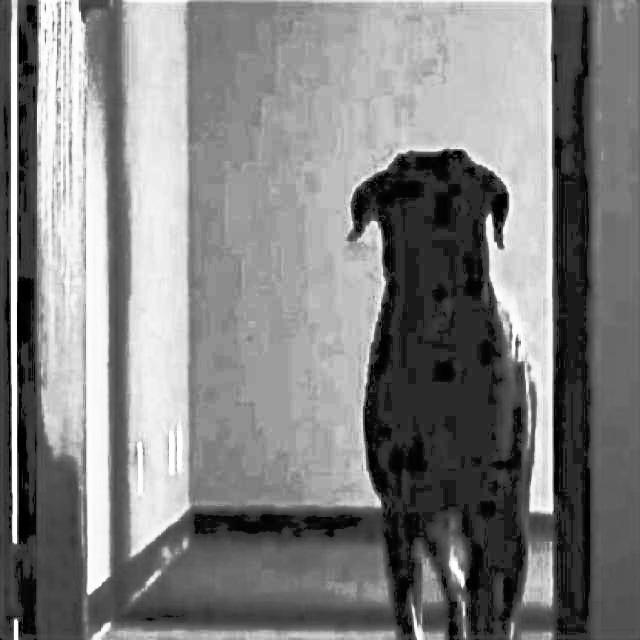Dog: (350, 129, 544, 640)
